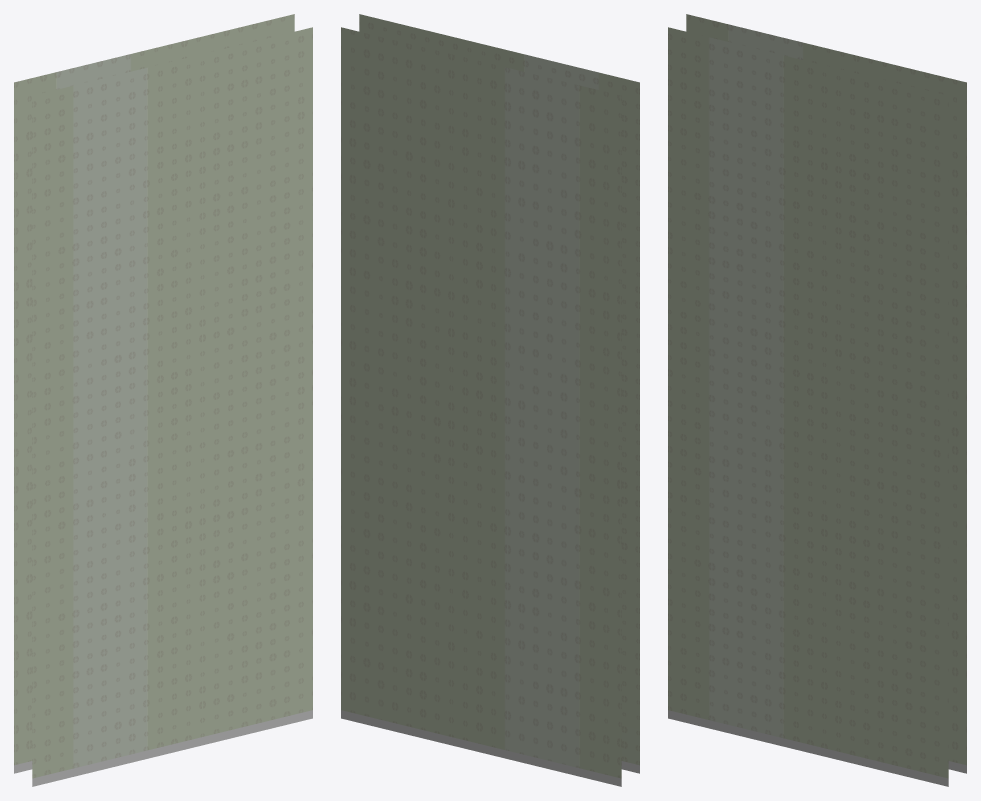
3 renders of one model, left to right at view 1: azimuth 30°, elevation 25°; view 2: azimuth 150°, elevation 25°; view 3: azimuth 330°, elevation 25°, orthographic.
Parts seen in each view (by area): view 1: Mesh (66); view 2: Mesh (66); view 3: Mesh (66).
Boxes of the visible parts, x1,y1,x2,y2 form: Mesh (66): (14, 14, 312, 786); Mesh (66): (341, 14, 639, 786); Mesh (66): (668, 14, 966, 786).
Size of the model in its own units: 148 by 348 by 16.53.
